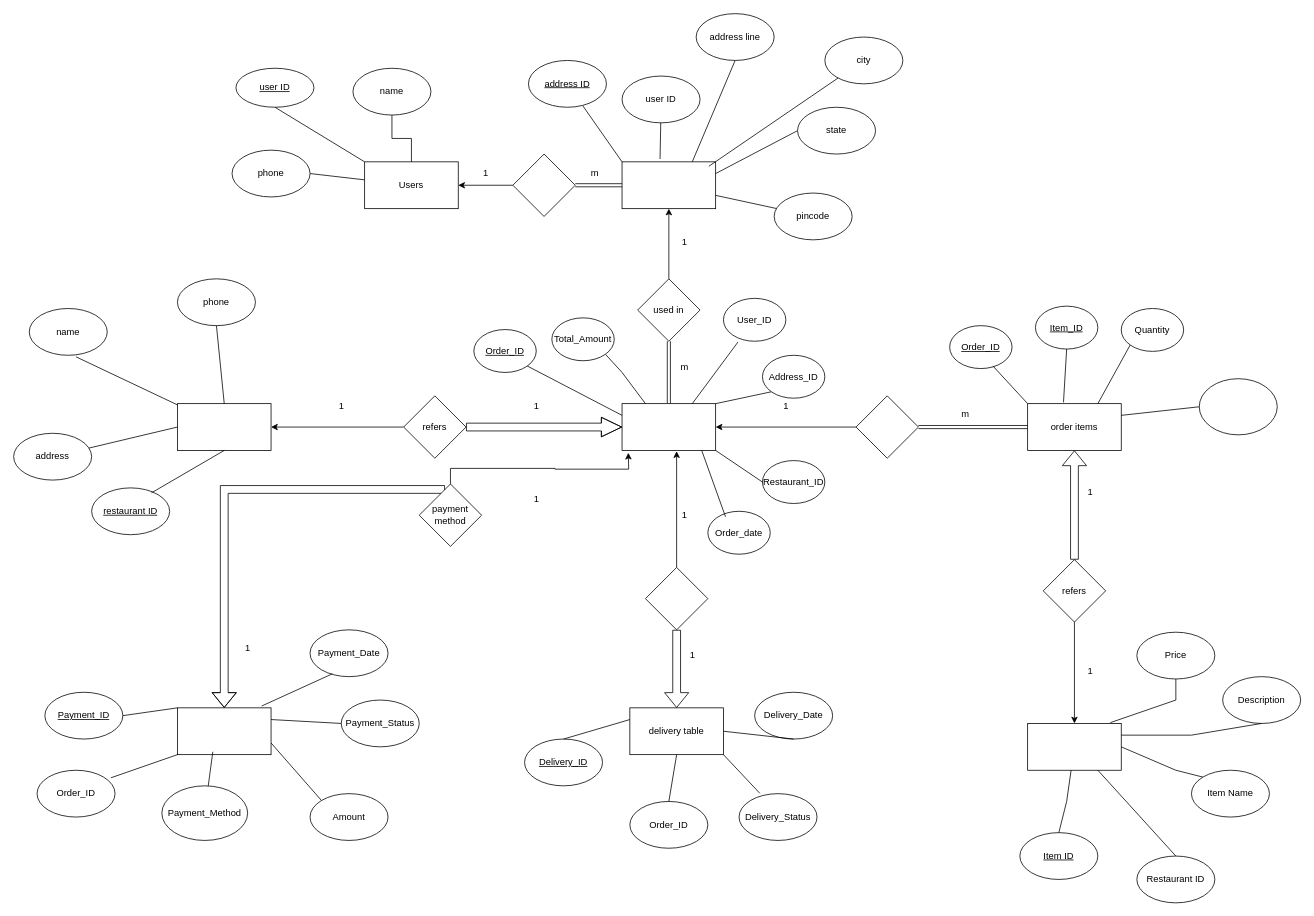
Image size: 1314x916. Some labels were removed from this diagram. Here are the shapes that lost their labels. From the top down, the centre of each, then its label:
point (543, 184): stay
point (668, 185): user address
point (224, 426): restaurants
point (668, 426): orders
point (886, 426): has
point (1237, 406): Price_At_Order
point (676, 598): delivery status
point (224, 731): payments
point (1074, 746): menu items
